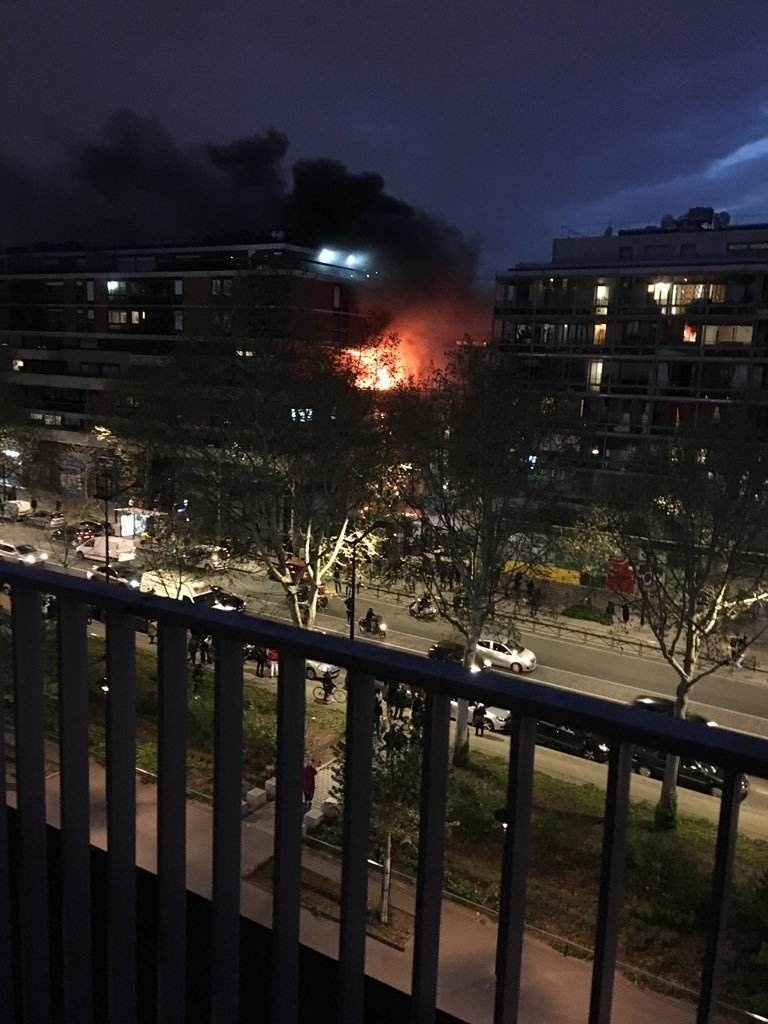fire: (344, 331, 418, 394)
